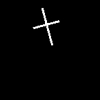single_crochet: (33, 8, 58, 44)
